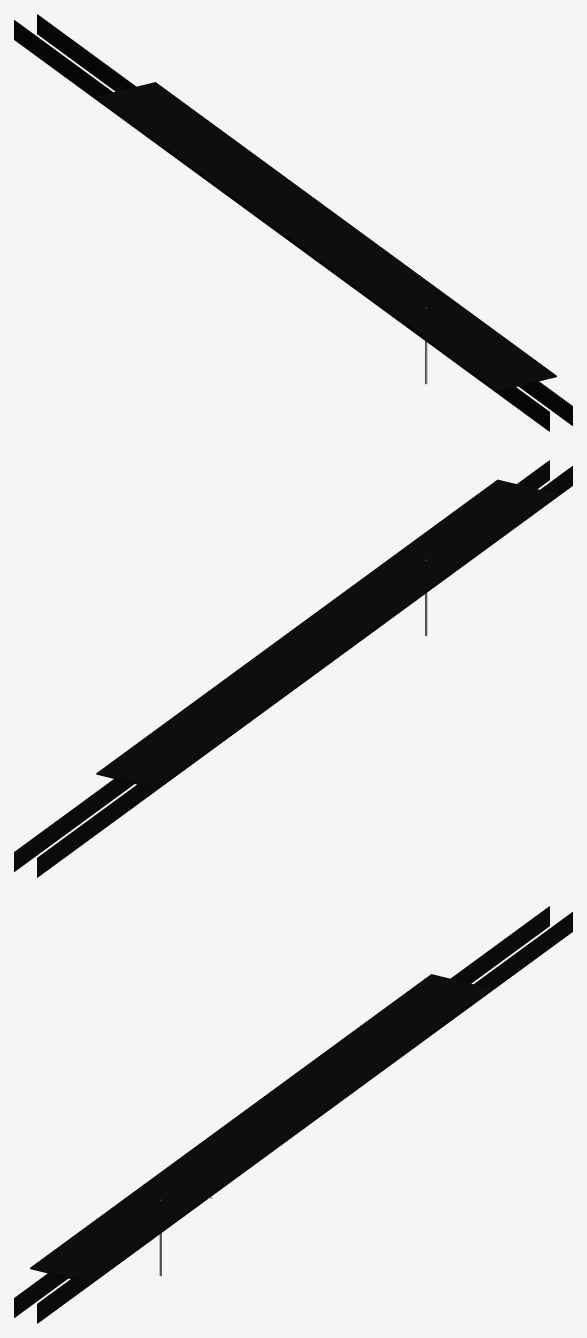
The model's file is hiphop.glb.
3 views of the same model, one above another, from view 1: azimuth 30°, elevation 25°; view 2: azimuth 150°, elevation 25°; view 3: azimuth 330°, elevation 25° (orthographic).
Parts seen in each view (by area): view 1: Roof, Walls; view 2: Roof, Walls; view 3: Roof, Walls.
Boxes of the visible parts, x1,y1,x2,y2 form: Roof: (96, 82, 556, 391); Walls: (14, 14, 572, 431); Roof: (96, 479, 556, 788); Walls: (14, 460, 572, 877); Roof: (30, 974, 490, 1283); Walls: (14, 906, 572, 1323).
Size of the model in its own units: 110 by 128 by 1630.
20 materials, 9 textured.
